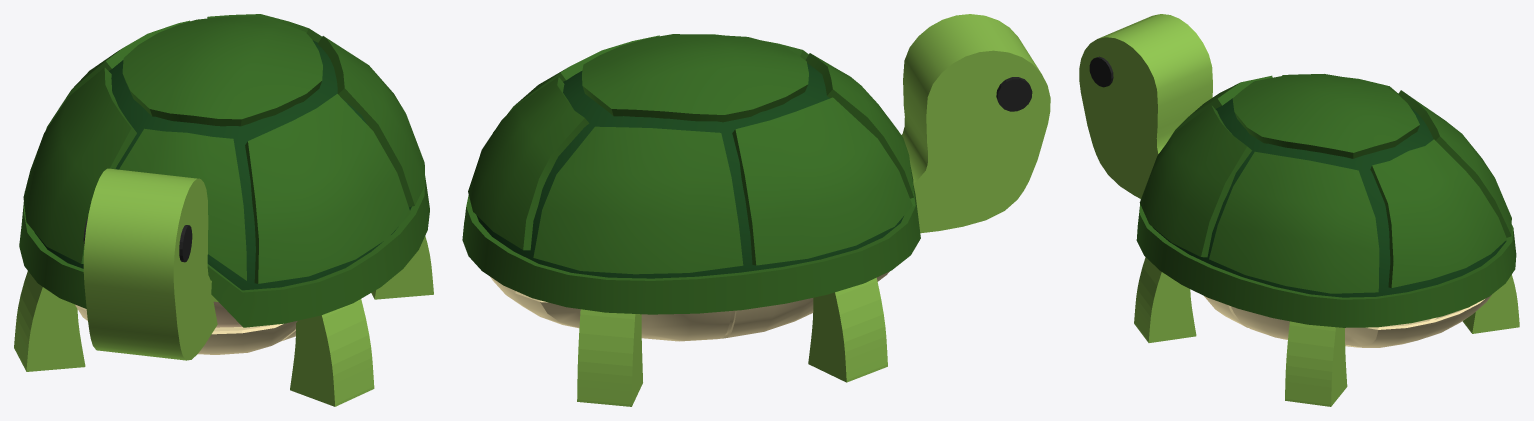
File: turtle.fbx
3 views of the same model, side by side, from view 1: azimuth 30°, elevation 25°; view 2: azimuth 150°, elevation 25°; view 3: azimuth 270°, elevation 25° (orthographic). The views are drawn at different scales.
Parts seen in each view (by area): view 1: Cube.436, Cube.046, Cube.085, Cube.440, Cube.044, Cube.441, Cube.439, Cylinder.153, Cube.049; view 2: Cube.436, Cube.046, Cube.440, Cube.044, Cube.085, Cube.439, Cube.441, Cylinder.153; view 3: Cube.436, Cube.046, Cube.440, Cube.439, Cube.044, Cube.085, Cube.441, Cylinder.153.
Part boxes in pixels (x1,y1,x2,y2): Cube.436: (23,16,425,283); Cube.046: (83,168,218,360); Cube.085: (14,236,433,406); Cube.440: (19,176,429,327); Cube.044: (34,40,411,354); Cube.441: (119,128,246,280); Cube.439: (207,14,321,42); Cylinder.153: (83,217,192,262); Cube.049: (213,301,242,327); Cube.436: (493,34,912,274); Cube.046: (901,14,1050,233); Cube.440: (462,165,920,314); Cube.044: (476,63,903,341); Cube.085: (577,277,887,406); Cube.439: (468,76,589,250); Cube.441: (805,53,913,198); Cylinder.153: (996,77,1032,111); Cube.436: (1139,74,1511,293); Cube.046: (1079,14,1212,198); Cube.440: (1136,198,1516,327); Cube.439: (1370,139,1506,287); Cube.044: (1153,98,1506,347); Cube.085: (1134,257,1519,406); Cube.441: (1168,75,1272,140); Cylinder.153: (1089,56,1113,87).
Bounding box in the file's own units: 207 × 121 × 208.
Materials: 1 (1 with a texture image).
